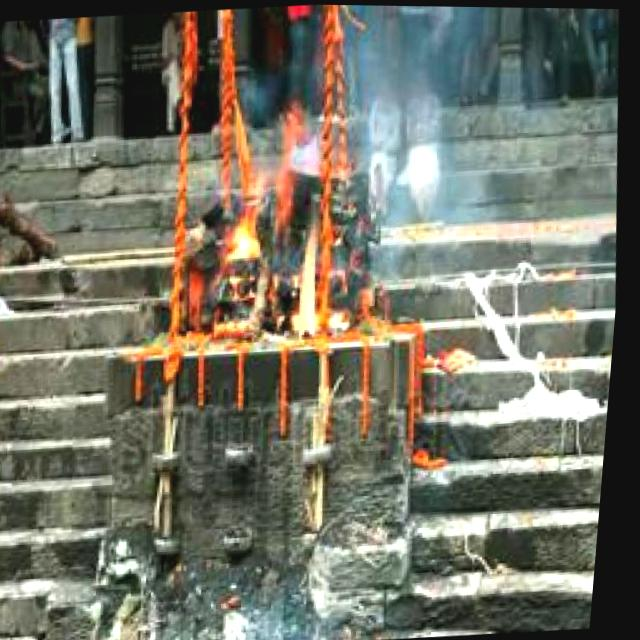Fire: (216, 98, 351, 350)
